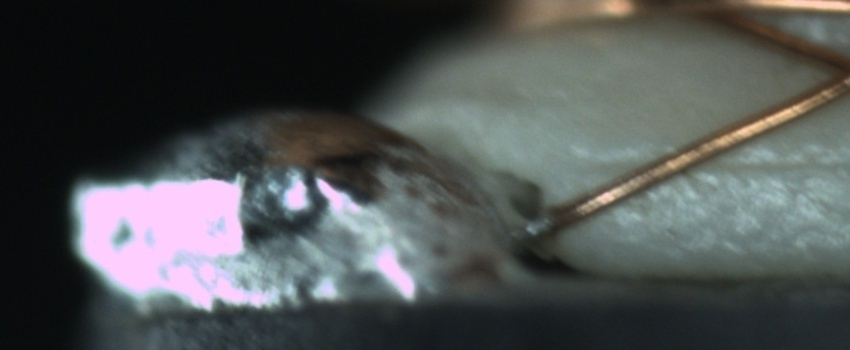CL: (806, 39, 850, 105)
DL: (603, 131, 847, 198)
TS: (514, 208, 557, 243)
